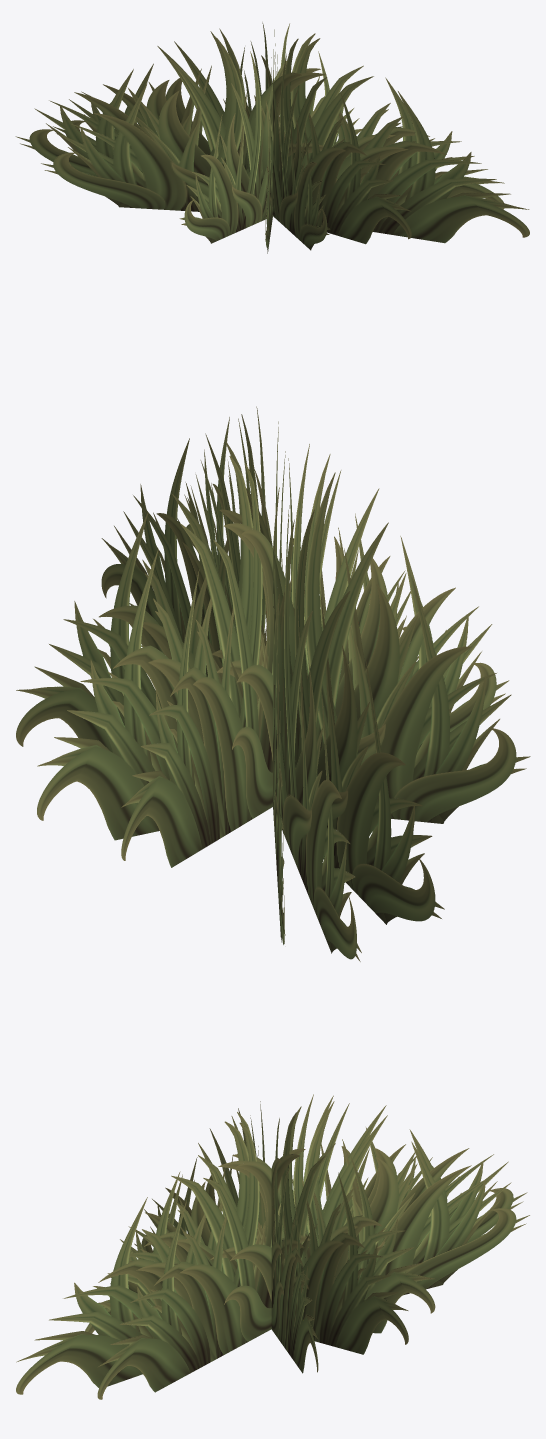
The model's file is grass.gltf.
3 renders of one model, top to bottom at view 1: azimuth 30°, elevation 25°; view 2: azimuth 150°, elevation 25°; view 3: azimuth 270°, elevation 25°, orthographic. The views are drawn at different scales.
Parts seen in each view (by area): view 1: grass.13139; view 2: grass.13139; view 3: grass.13139.
Part boxes in pixels (<box>): grass.13139: <box>15,22,529,253</box>; grass.13139: <box>16,406,530,961</box>; grass.13139: <box>16,1094,529,1399</box>.
Bounding box in the file's own units: 0.9285 × 0.5437 × 1.07.
Materials: 1 (1 with a texture image).
